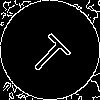T: (25, 25, 79, 79)
